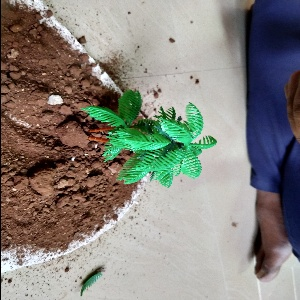plant: (81, 92, 212, 181)
